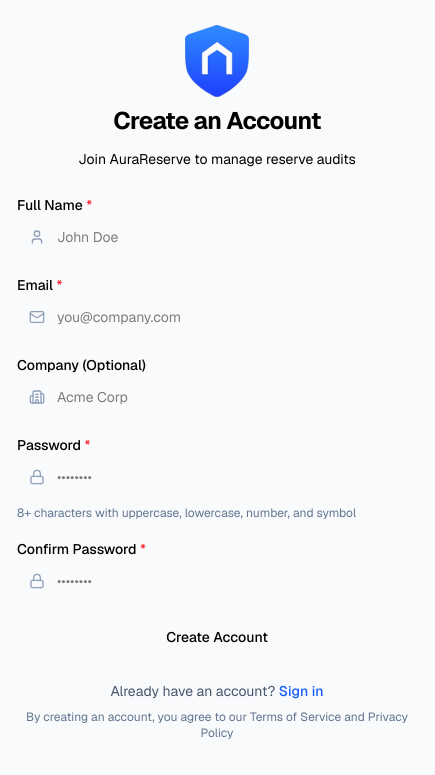
Test: self-registration settings › shows verification message after signup when email verification is required
expect the heading "Create an Account" is shown: met, box [113,105,321,136]
Type "Verified User" into the field labelled "Full Name *" at point(217, 237), box [17,217,417,257]
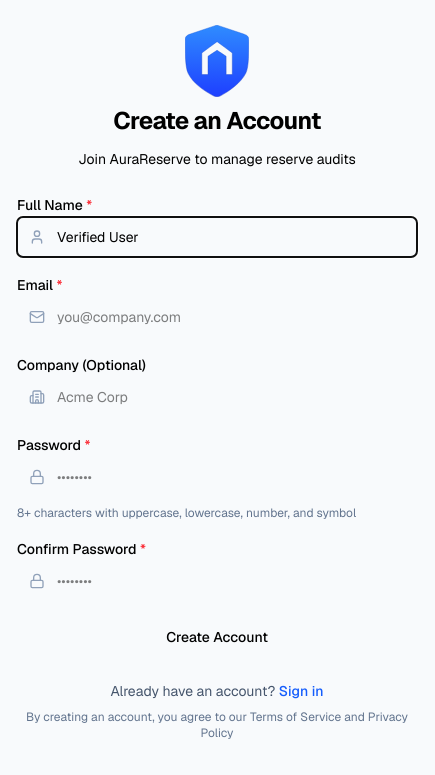
Type "verify@user.com" into the field labelled "Email *" at point(217, 317), box [17,297,417,337]
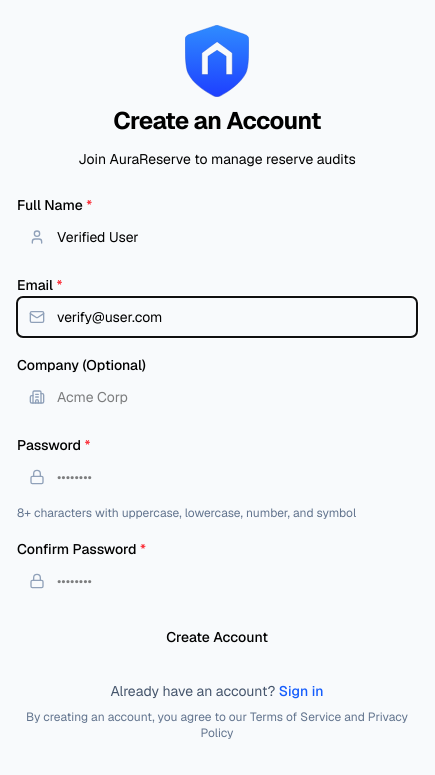
Type "securePass123!" into the password field labelled "Password *" at point(217, 477), box [17,457,417,497]
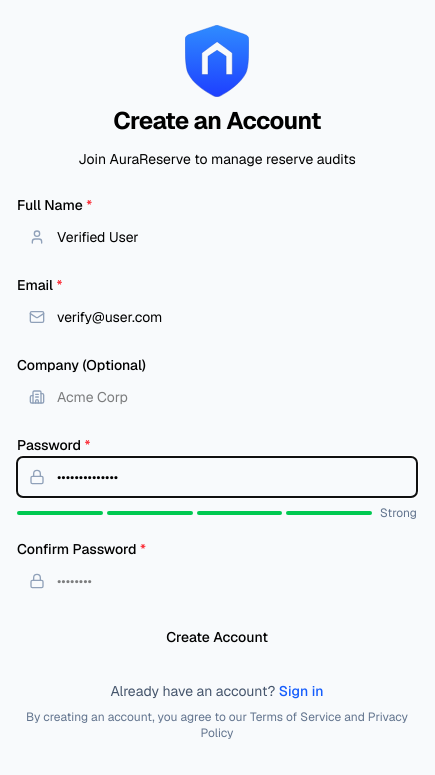
Type "securePass123!" into the password field labelled "Confirm Password *" at point(217, 581), box [17,561,417,601]
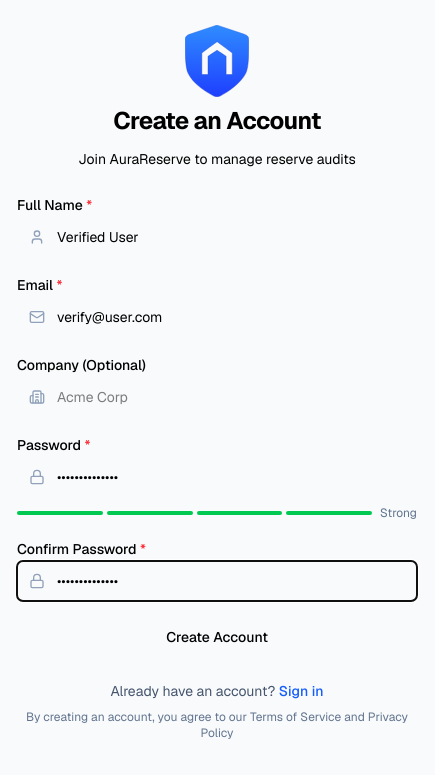
Click the button "Create Account" at point(217, 637), box [17,617,417,657]
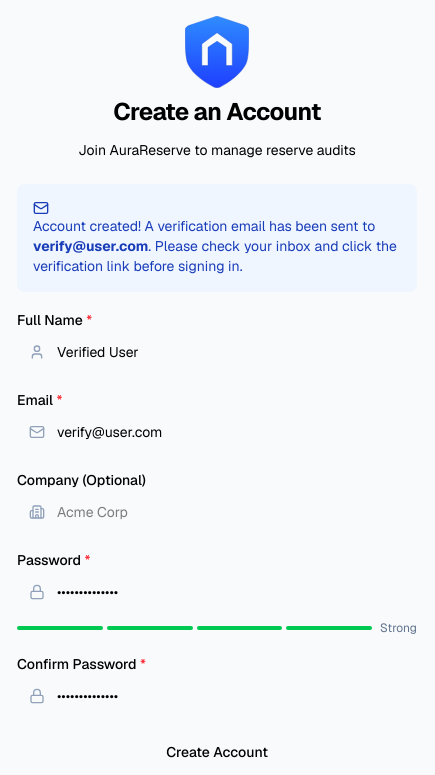
expect the text "verification email has been sent" is shown: met, box [33,217,375,235]
expect the text "verify@user.com" is shown: met, box [33,237,148,255]
